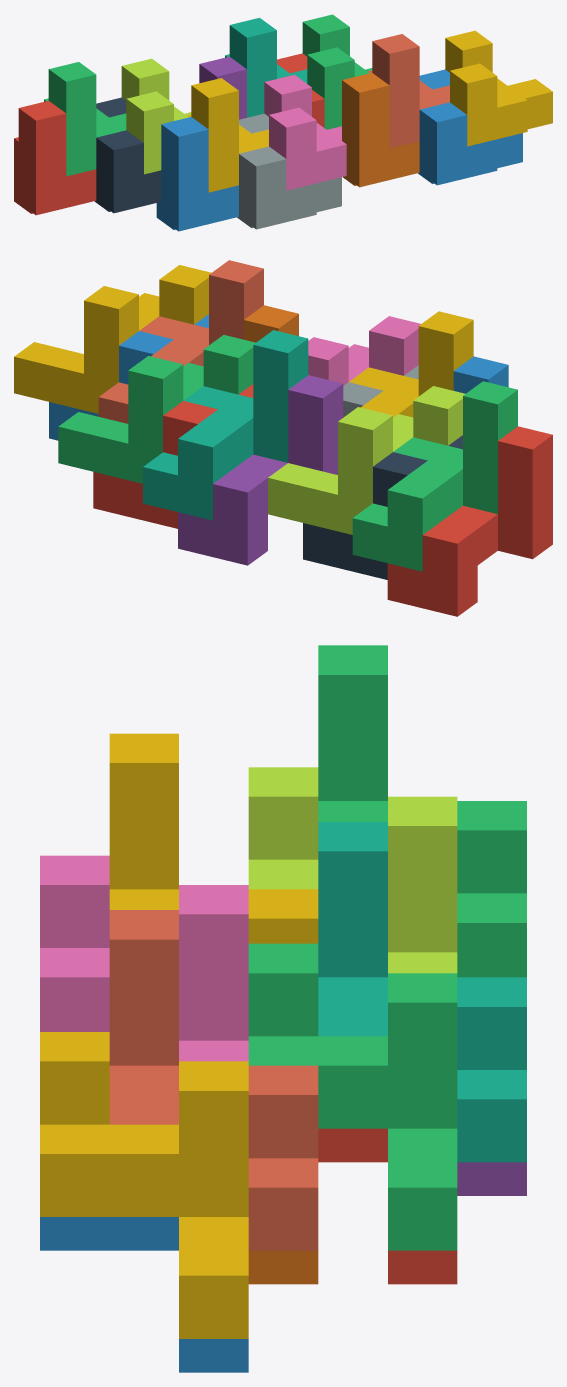
The model's file is tiling.obj.
3 renders of one model, top to bottom at view 1: azimuth 30°, elevation 25°; view 2: azimuth 150°, elevation 25°; view 3: azimuth 270°, elevation 25°, orthographic. The views are drawn at different scales.
Parts seen in each view (by area): view 1: copy_2_domain_8, copy_1_domain_1, copy_1_domain_2, copy_2_domain_4, copy_1_domain_6, copy_2_domain_6, copy_2_domain_2, copy_1_domain_3, copy_2_domain_1, copy_1_domain_4, copy_1_domain_8, copy_2_domain_3 (+4 smaller); view 2: copy_1_domain_1, copy_1_domain_7, copy_1_domain_3, copy_2_domain_7, copy_2_domain_3, copy_2_domain_8, copy_1_domain_5, copy_1_domain_8, copy_1_domain_4, copy_2_domain_4, copy_2_domain_5, copy_2_domain_1 (+4 smaller); view 3: copy_2_domain_8, copy_2_domain_7, copy_1_domain_8, copy_1_domain_7, copy_1_domain_3, copy_2_domain_4, copy_2_domain_3, copy_1_domain_4, copy_2_domain_6, copy_2_domain_5, copy_1_domain_6, copy_1_domain_5.
Part boxes in pixels (box(x1,y1,x2,y2)): copy_2_domain_8: box(445, 30, 552, 146); copy_1_domain_1: box(14, 100, 96, 215); copy_1_domain_2: box(156, 117, 238, 231); copy_2_domain_4: box(264, 74, 346, 190); copy_1_domain_6: box(342, 73, 419, 187); copy_2_domain_6: box(418, 69, 522, 185); copy_2_domain_2: box(237, 113, 341, 229); copy_1_domain_3: box(44, 62, 126, 176); copy_2_domain_1: box(94, 97, 161, 213); copy_1_domain_4: box(187, 78, 268, 192); copy_1_domain_8: box(368, 34, 449, 148); copy_2_domain_3: box(121, 58, 191, 174); copy_1_domain_1: box(387, 426, 552, 616); copy_1_domain_7: box(143, 330, 308, 520); copy_1_domain_3: box(352, 381, 517, 571); copy_2_domain_7: box(58, 335, 255, 483); copy_2_domain_3: box(268, 386, 465, 534); copy_2_domain_8: box(14, 265, 211, 413); copy_1_domain_5: box(178, 375, 343, 565); copy_1_domain_8: box(98, 260, 263, 423); copy_1_domain_4: box(349, 311, 473, 417); copy_2_domain_4: box(308, 316, 420, 385); copy_2_domain_5: box(93, 384, 253, 528); copy_2_domain_1: box(303, 435, 462, 579); copy_2_domain_8: box(40, 1032, 248, 1338); copy_2_domain_7: box(248, 943, 457, 1250); copy_1_domain_8: box(109, 910, 318, 1250); copy_1_domain_7: box(318, 822, 526, 1162); copy_1_domain_3: box(318, 645, 526, 977); copy_2_domain_4: box(40, 855, 248, 1061); copy_2_domain_3: box(248, 767, 457, 973); copy_1_domain_4: box(109, 733, 318, 943); copy_2_domain_6: box(40, 1217, 248, 1372); copy_2_domain_5: box(318, 1128, 457, 1284); copy_1_domain_6: box(248, 1250, 318, 1284); copy_1_domain_5: box(457, 1162, 526, 1195).
Size of the model in its own units: 16 by 5 by 7.
